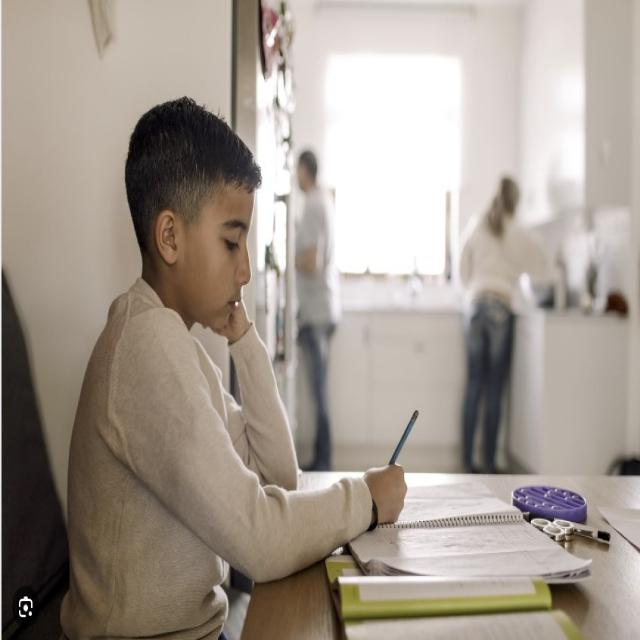studying-person: (49, 56, 627, 635)
